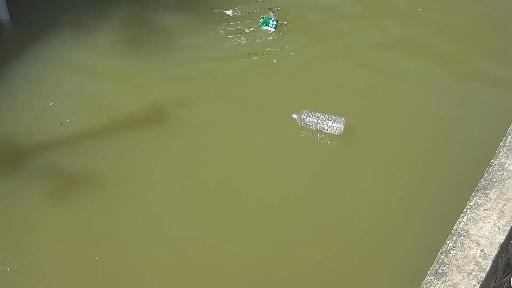plastic: (277, 106, 357, 139), (255, 4, 287, 45)
